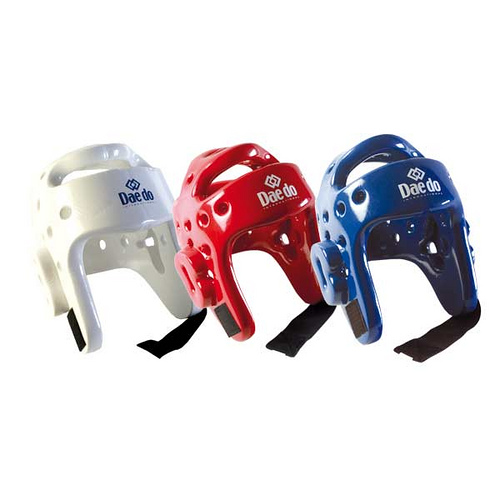helmet: (320, 143, 477, 307), (26, 152, 182, 275), (168, 152, 319, 270)
